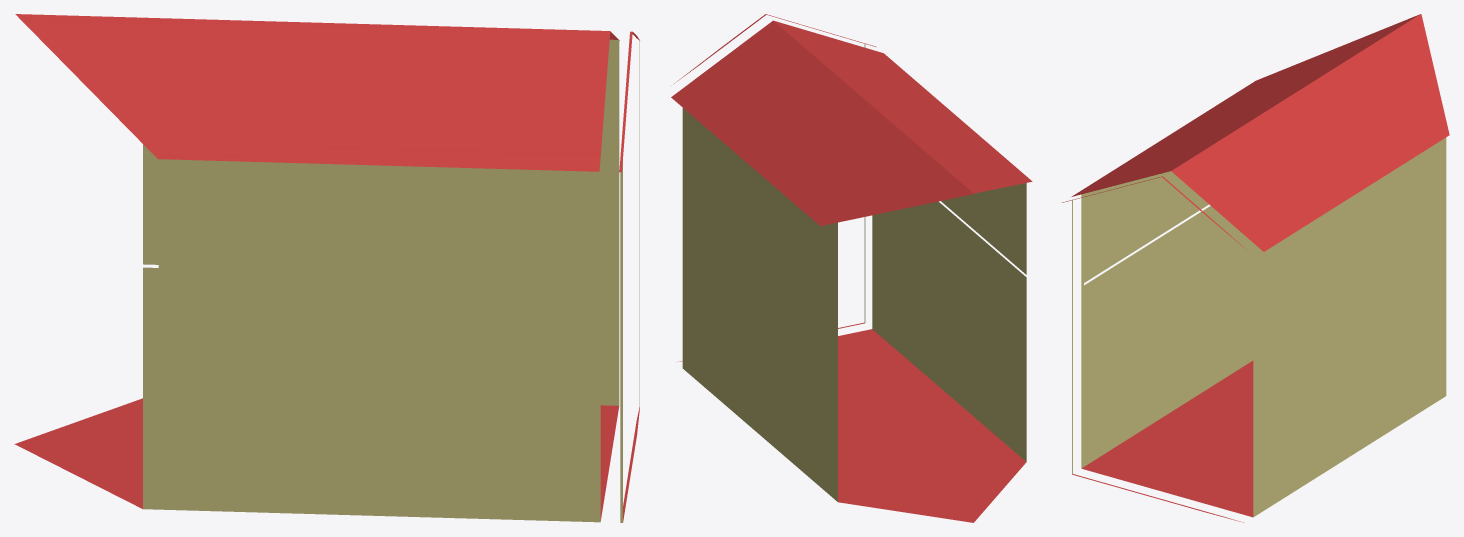
3 renders of one model, left to right at view 1: azimuth 30°, elevation 25°; view 2: azimuth 150°, elevation 25°; view 3: azimuth 270°, elevation 25°, orthographic. The views are drawn at different scales.
Parts seen in each view (by area): view 1: group_5, group_3, group_6, group_4; view 2: group_5, group_3, group_6; view 3: group_5, group_3, group_6.
Part boxes in pixels (x1,y1,x2,y2): group_5: (143,39,639,522); group_3: (15,14,639,172); group_6: (14,398,639,521); group_4: (145,144,622,164); group_5: (682,44,1026,501); group_3: (671,14,1032,225); group_6: (676,322,1026,522); group_5: (1072,137,1446,517); group_3: (1062,14,1449,251); group_6: (1072,360,1253,522).
Bounding box in the file's own units: 17.45 × 15.27 × 14.01.
